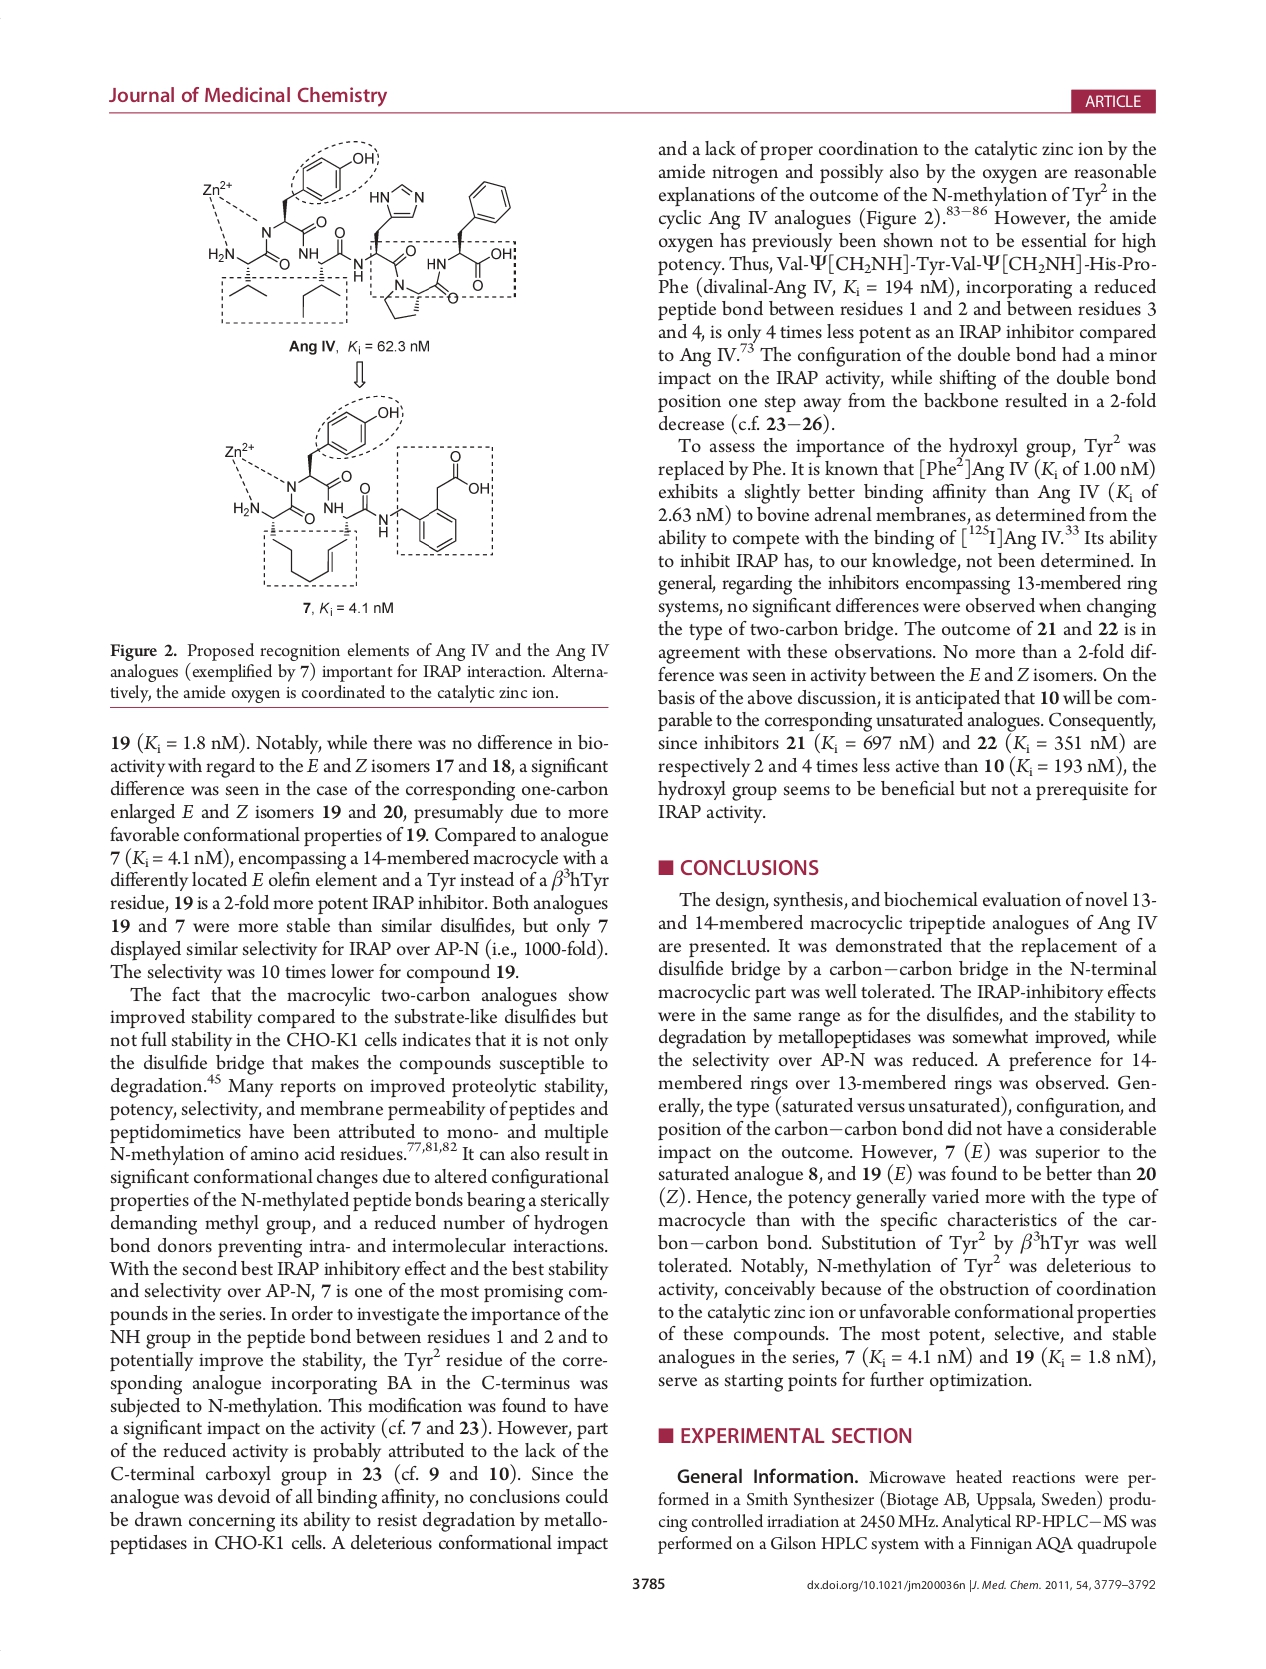exist_molecular: (203, 150, 517, 319), (229, 404, 492, 582)
